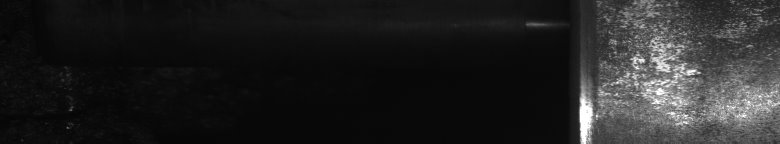kb: (592, 4, 776, 133)
